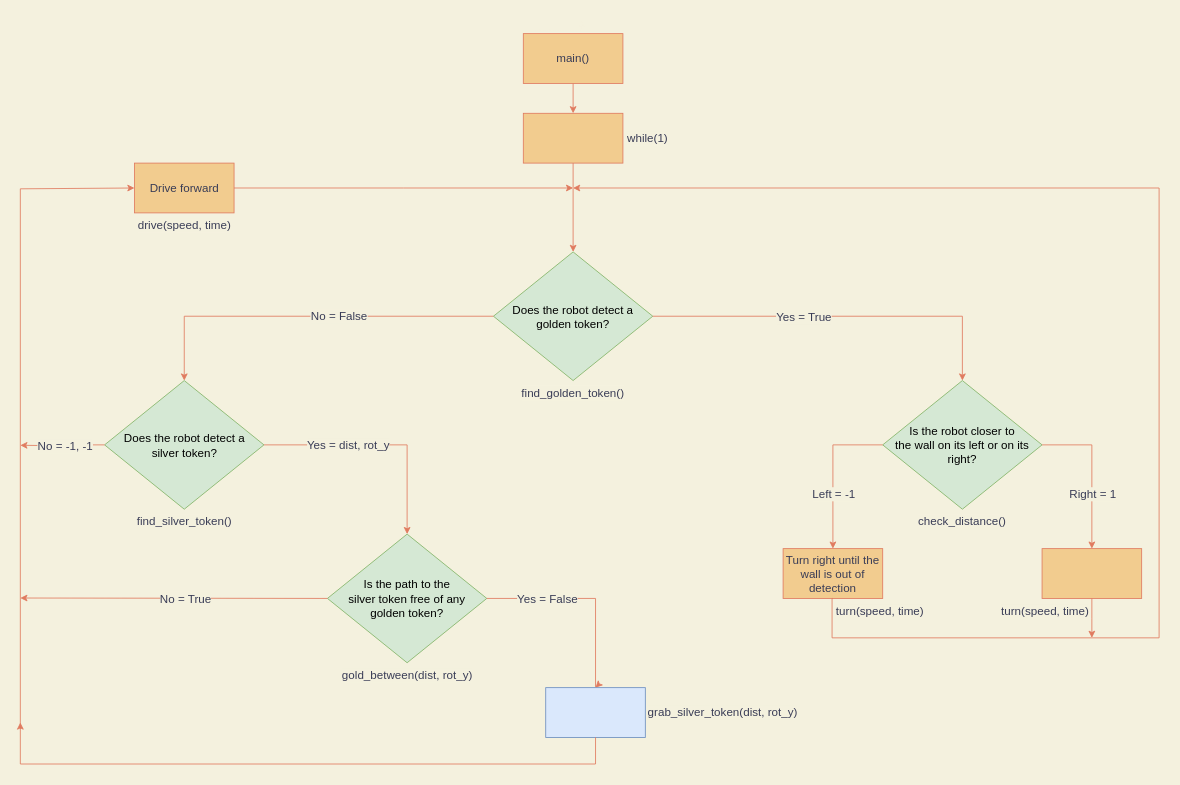
This 1180x785 diagram has some shape labels left out. The shapes that lost their labels are listed below. From the top down, each one's centre as x and y in pixels, then its label:
point (572, 137): Start of the infinite loop
point (1091, 573): Turn left until the wall is out of detection
point (595, 712): Grab silver token routine
